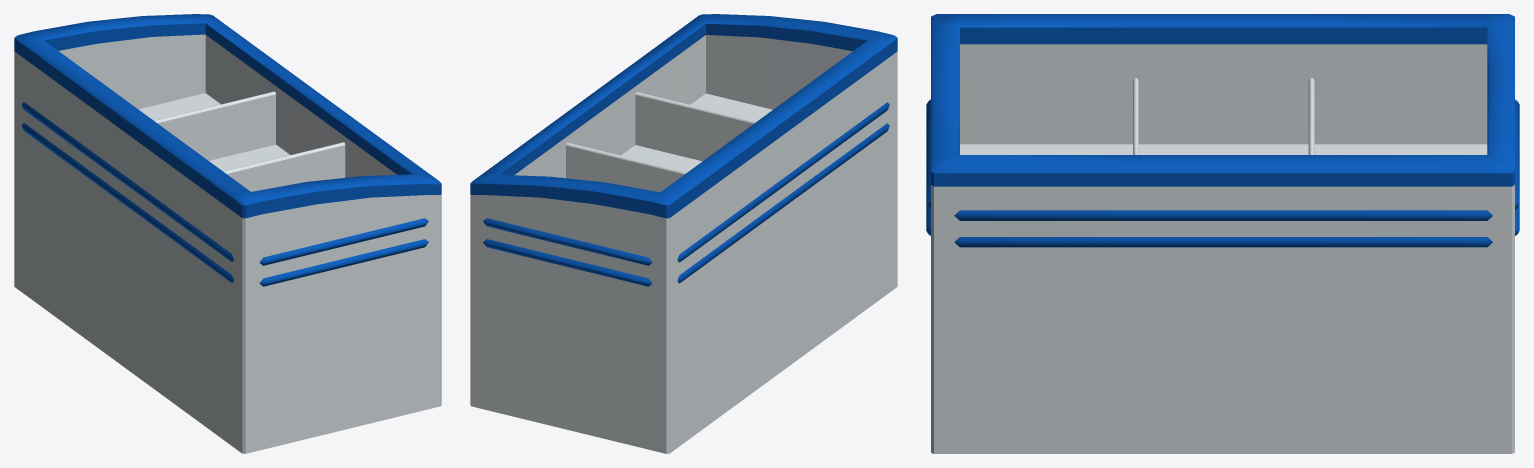
File: Small_Freezer_Bin_col.glb
The picture shows the model from 3 angles, left to right: view 1: azimuth 30°, elevation 25°; view 2: azimuth 150°, elevation 25°; view 3: azimuth 270°, elevation 25°; orthographic projection. The views are drawn at different scales.
Parts seen in each view (by area): view 1: Small_Freezer_Bin_col; view 2: Small_Freezer_Bin_col; view 3: Small_Freezer_Bin_col.
Boxes of the visible parts, x1,y1,x2,y2 form: Small_Freezer_Bin_col: (14, 14, 441, 453); Small_Freezer_Bin_col: (470, 14, 897, 453); Small_Freezer_Bin_col: (926, 14, 1519, 453).
Size of the model in its own units: 1.02 by 1.2 by 2.03.
1 material, 1 textured.
